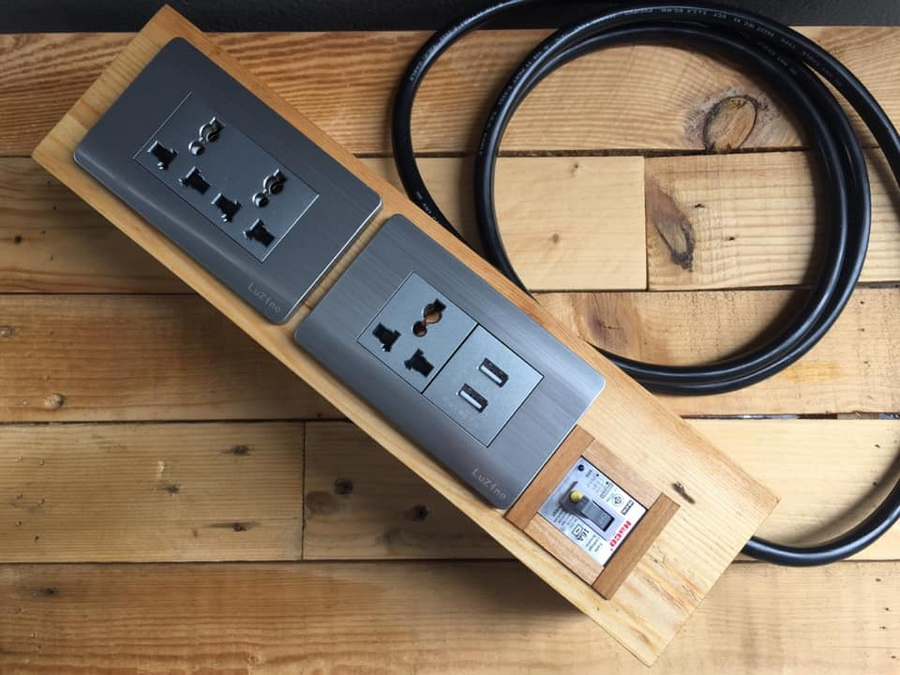Three_eye_plug: (295, 203, 617, 529), (67, 33, 390, 336)
